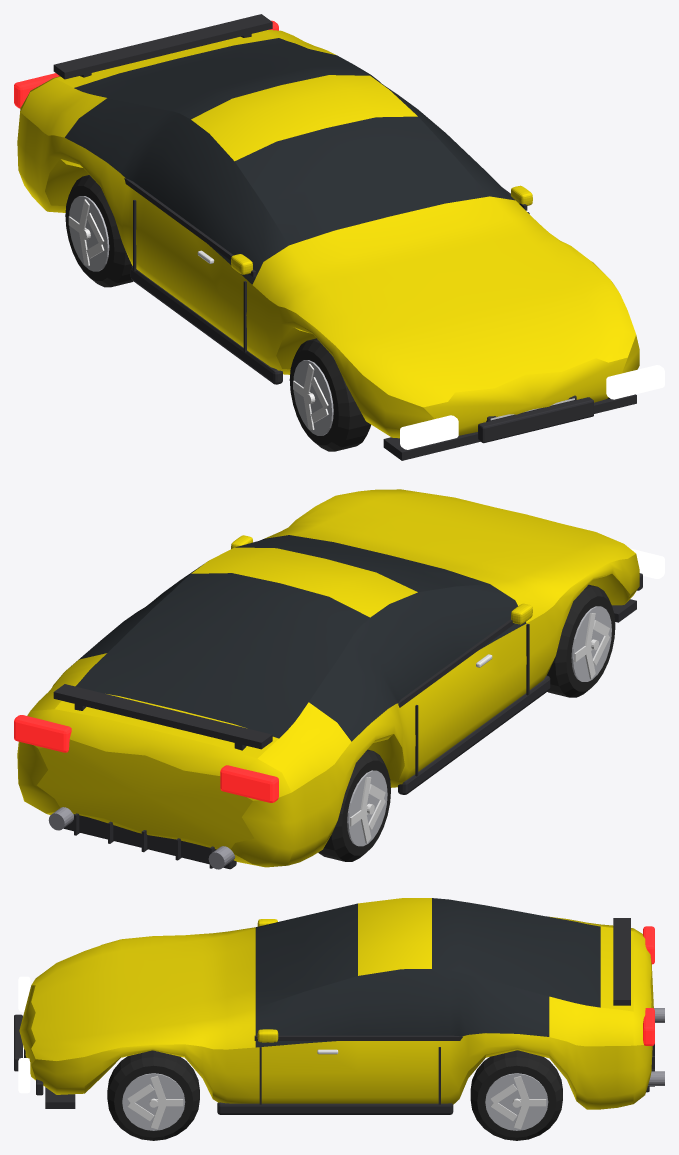
3 views of the same model, one above another, from view 1: azimuth 30°, elevation 25°; view 2: azimuth 150°, elevation 25°; view 3: azimuth 270°, elevation 25° (orthographic). The views are drawn at different scales.
Visible parts, largest first — view 1: body, part_trim, wheel_fr, wheel_rr, part_light_front, part_light_rear; view 2: body, part_trim, wheel_fr, wheel_rr, part_light_rear, part_brake, part_light_front; view 3: body, part_trim, wheel_fl, wheel_rl, part_light_front, part_light_rear, part_brake.
Part boxes in pixels (box(x1,y1,x2,y2)): body: box(17, 30, 639, 438); part_trim: box(53, 14, 636, 460); wheel_fr: box(289, 338, 370, 451); wheel_rr: box(65, 175, 133, 287); part_light_front: box(400, 365, 664, 449); part_light_rear: box(14, 20, 278, 108); body: box(17, 489, 639, 867); part_trim: box(53, 573, 642, 869); wheel_fr: box(546, 584, 615, 697); wheel_rr: box(318, 749, 390, 861); part_light_rear: box(14, 715, 278, 802); part_brake: box(48, 807, 235, 869); part_light_front: box(630, 548, 664, 578); body: box(19, 898, 653, 1109); part_trim: box(14, 918, 654, 1114); wheel_fl: box(107, 1050, 199, 1140); wheel_rl: box(470, 1050, 562, 1140); part_light_front: box(18, 976, 30, 1093); part_light_rear: box(643, 926, 654, 1045); part_brake: box(648, 1008, 664, 1085).
Size of the model in its own units: 1.86 by 1.22 by 4.36.
